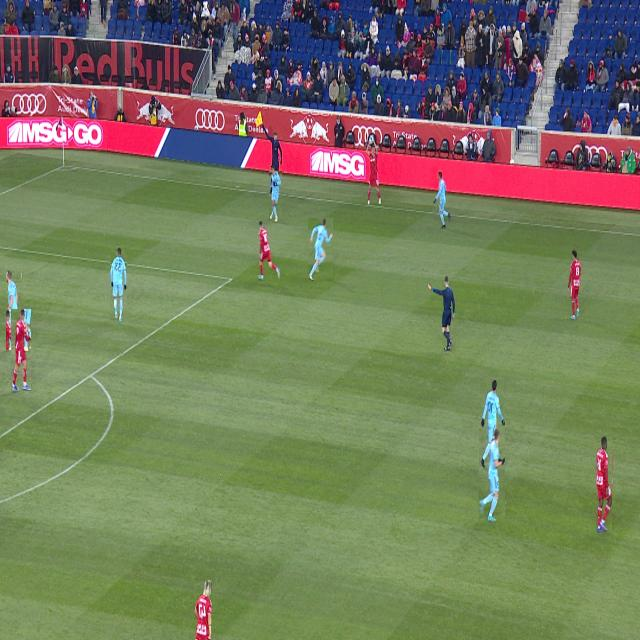player: (480, 429, 505, 522), (482, 380, 504, 467), (308, 218, 333, 281), (12, 310, 31, 391), (597, 437, 612, 533), (258, 221, 280, 281), (110, 248, 127, 322), (7, 271, 21, 350), (194, 580, 212, 639), (433, 171, 451, 230), (568, 250, 581, 320), (269, 165, 282, 223), (14, 337, 19, 352), (0, 345, 1, 354)
referee: (428, 276, 455, 352)
